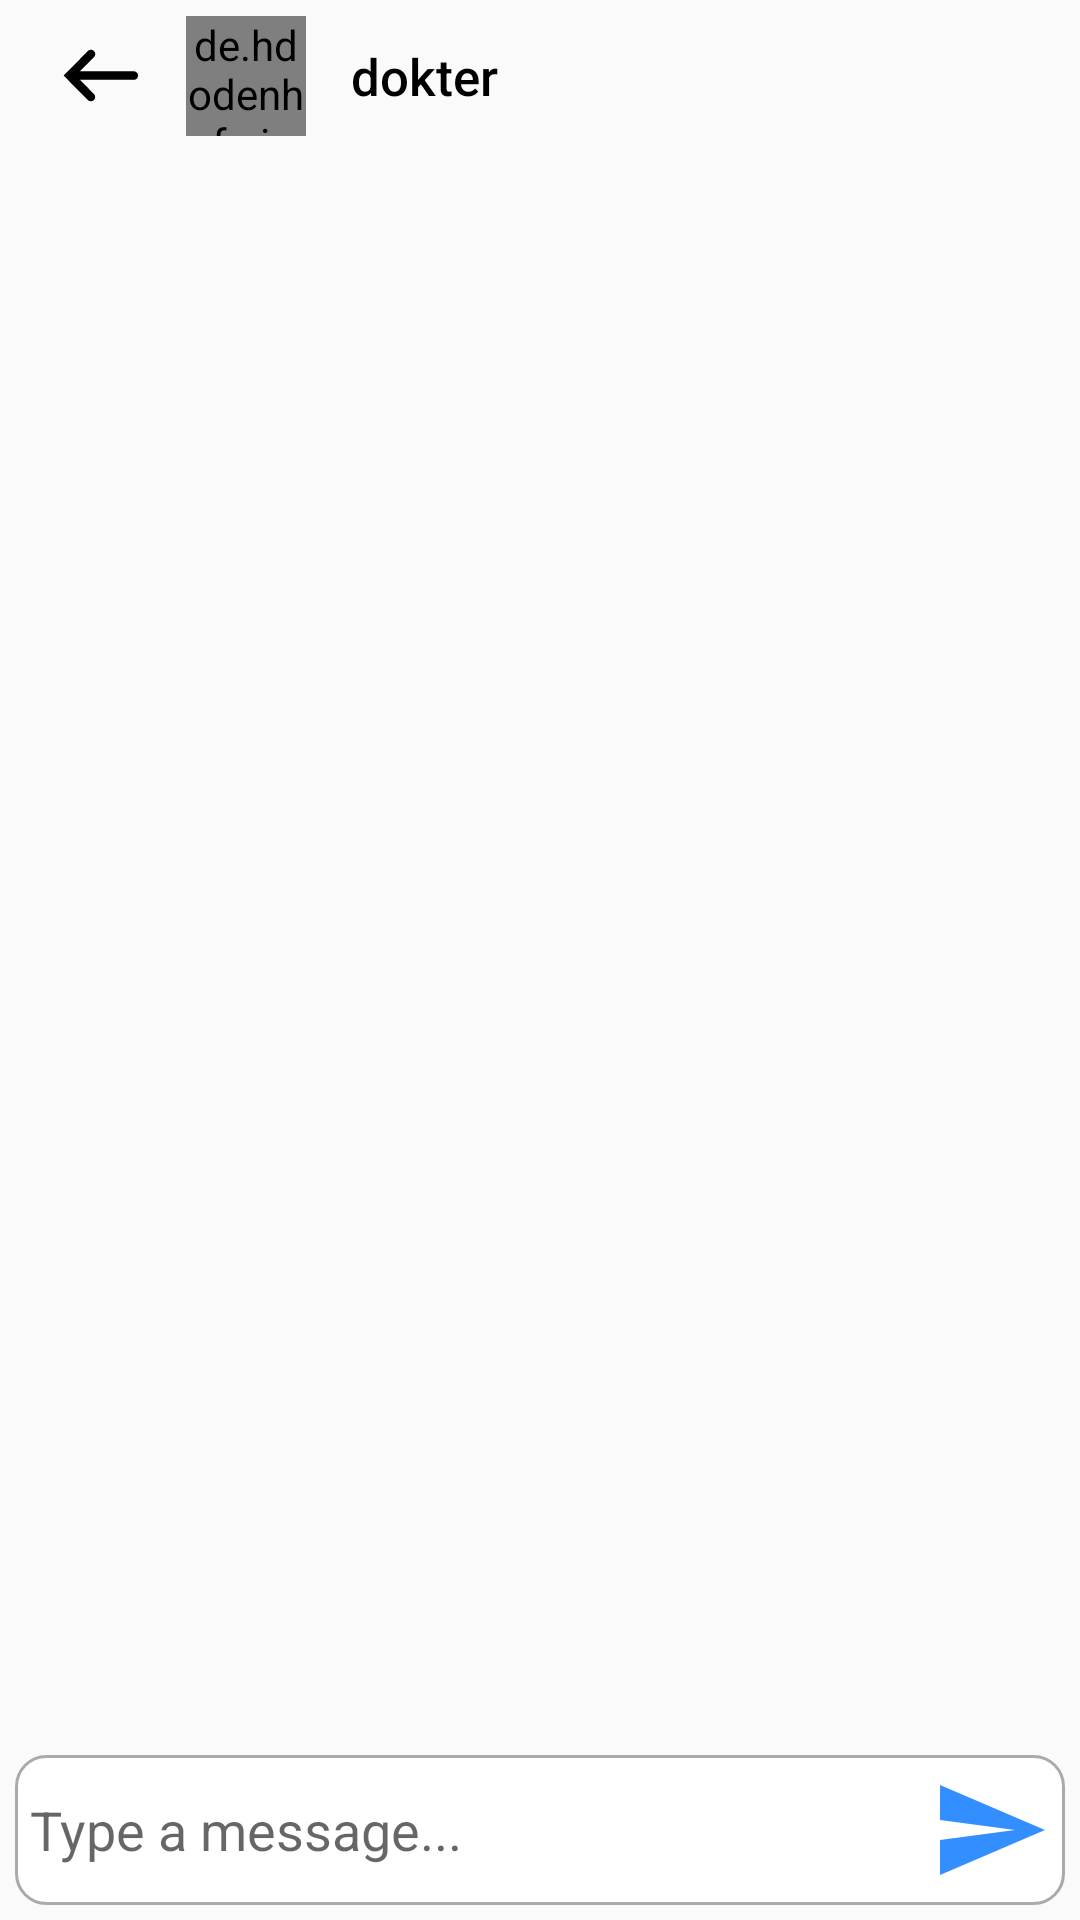

Named icons in this screenshot (1080 × 1920) and their centers, (x,y):
left: (100,75)
